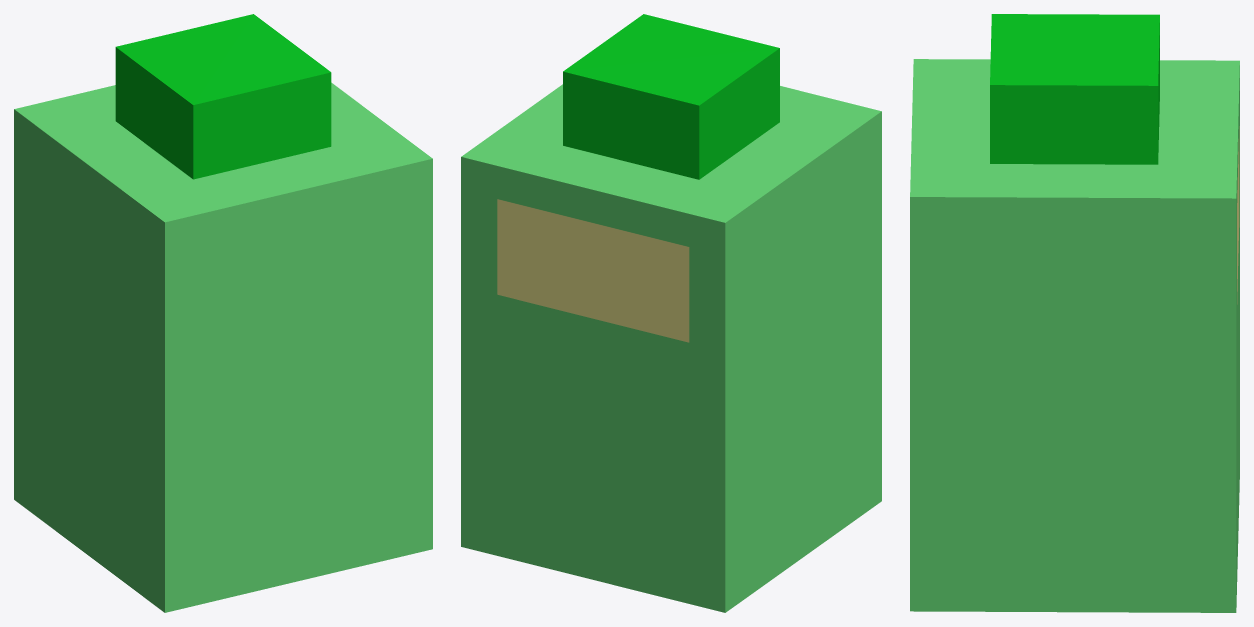
File: Botella04.fbx
3 views of the same model, side by side, from view 1: azimuth 30°, elevation 25°; view 2: azimuth 150°, elevation 25°; view 3: azimuth 270°, elevation 25° (orthographic). The views are drawn at different scales.
Visible parts, largest first — view 1: Botella04; view 2: Botella04; view 3: Botella04.
Part boxes in pixels (left/top/right/bottom): Botella04: left=14, top=14, right=432, bottom=612; Botella04: left=461, top=14, right=881, bottom=612; Botella04: left=910, top=14, right=1239, bottom=612.
Size of the model in its own units: 12.7 by 20.95 by 12.7.
